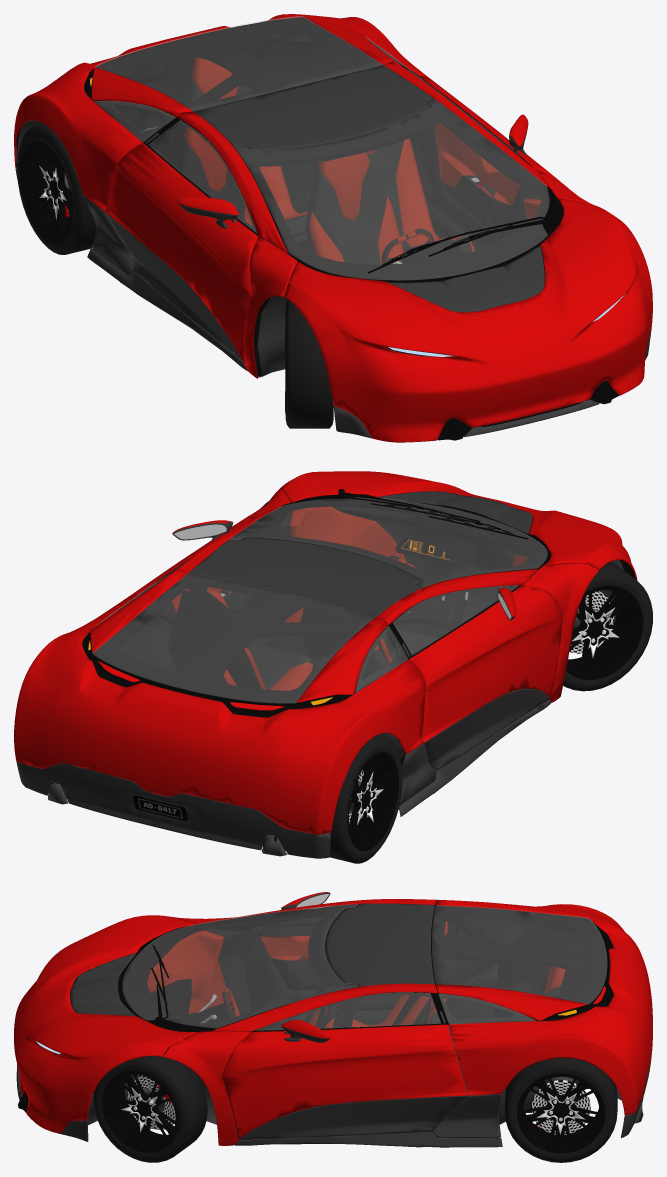
The model's file is concept-car.glb.
The picture shows the model from 3 angles, top to bottom: view 1: azimuth 30°, elevation 25°; view 2: azimuth 150°, elevation 25°; view 3: azimuth 270°, elevation 25°; orthographic projection. The views are drawn at different scales.
Visible parts, largest first — view 1: BodyHood, BodyWindshield, BodyRearwindow, BodyDoorRColor1, BodyRearPanelsColor1, BodyRoofPanel, BodyWindshieldGasket, InteriorSeatsColor1, InteriorSeatsColor2, BodyPillars, InteriorPillar, InteriorRearHatch (+21 smaller); view 2: BodyRearPanelsColor1, BodyRearwindow, BodyWindshield, BodyDoorRColor1, BodyPanelsColor2, BodyRoofPanel, BodyHood, InteriorRearHatch, BodyPillars, InteriorPillar, InteriorDashMid, BodyWindshieldGasket (+22 smaller); view 3: BodyRearPanelsColor1, BodyWindshield, BodyDoorLColor1, BodyHood, BodyRearwindow, BodyRoofPanel, BodyPillars, BodyWindshieldGasket, BodyDoorLColor2, BodyPanelsColor2, WheelFrontL, InteriorRearHatch (+25 smaller).
Part boxes in pixels (x1,y1,x2,y2): BodyHood: [284, 198, 652, 442]; BodyWindshield: [234, 98, 549, 280]; BodyRearwindow: [95, 16, 382, 110]; BodyDoorRColor1: [104, 143, 257, 363]; BodyRearPanelsColor1: [14, 14, 428, 210]; BodyRoofPanel: [193, 65, 432, 150]; BodyWindshieldGasket: [234, 99, 563, 282]; InteriorSeatsColor1: [185, 57, 475, 264]; InteriorSeatsColor2: [180, 78, 472, 264]; BodyPillars: [176, 61, 598, 378]; InteriorPillar: [158, 37, 434, 168]; InteriorRearHatch: [93, 17, 383, 117]; BodyRearPanelsColor1: [14, 569, 425, 834]; BodyRearwindow: [92, 573, 373, 703]; BodyWindshield: [229, 497, 547, 587]; BodyDoorRColor1: [409, 585, 562, 742]; BodyPanelsColor2: [16, 700, 550, 858]; BodyRoofPanel: [189, 537, 422, 617]; BodyHood: [279, 471, 637, 580]; InteriorRearHatch: [93, 573, 386, 707]; BodyPillars: [175, 489, 599, 702]; InteriorPillar: [174, 574, 417, 682]; InteriorDashMid: [331, 503, 528, 622]; BodyWindshieldGasket: [230, 497, 550, 587]; BodyRearPanelsColor1: [436, 899, 652, 1115]; BodyWindshield: [122, 904, 357, 1028]; BodyDoorLColor1: [222, 1024, 467, 1140]; BodyHood: [14, 915, 196, 1133]; BodyRearwindow: [432, 905, 606, 1003]; BodyRoofPanel: [326, 903, 434, 986]; BodyPillars: [163, 899, 437, 1145]; BodyWindshieldGasket: [118, 905, 357, 1032]; BodyDoorLColor2: [240, 1096, 467, 1140]; BodyPanelsColor2: [16, 1046, 652, 1147]; WheelFrontL: [93, 1054, 207, 1162]; InteriorRearHatch: [431, 905, 606, 1021].
Size of the model in its own units: 2.54 by 1.15 by 4.36.
23 materials, 5 textured.
